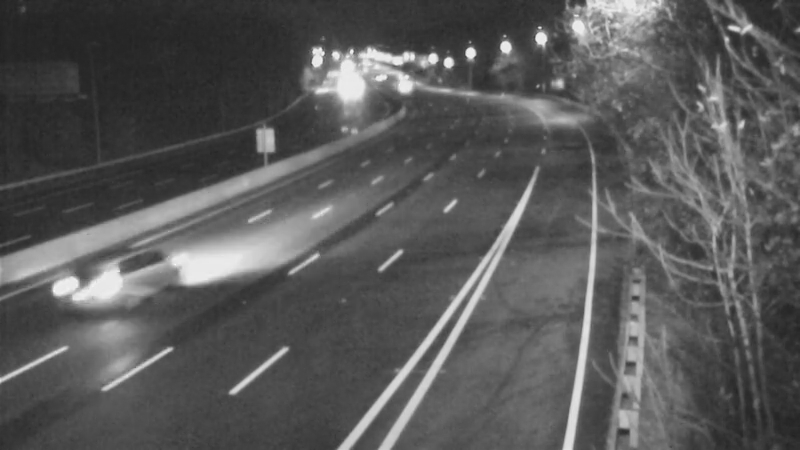vehicle: (51, 251, 131, 331), (376, 52, 426, 102), (379, 61, 429, 111), (319, 68, 369, 118)
